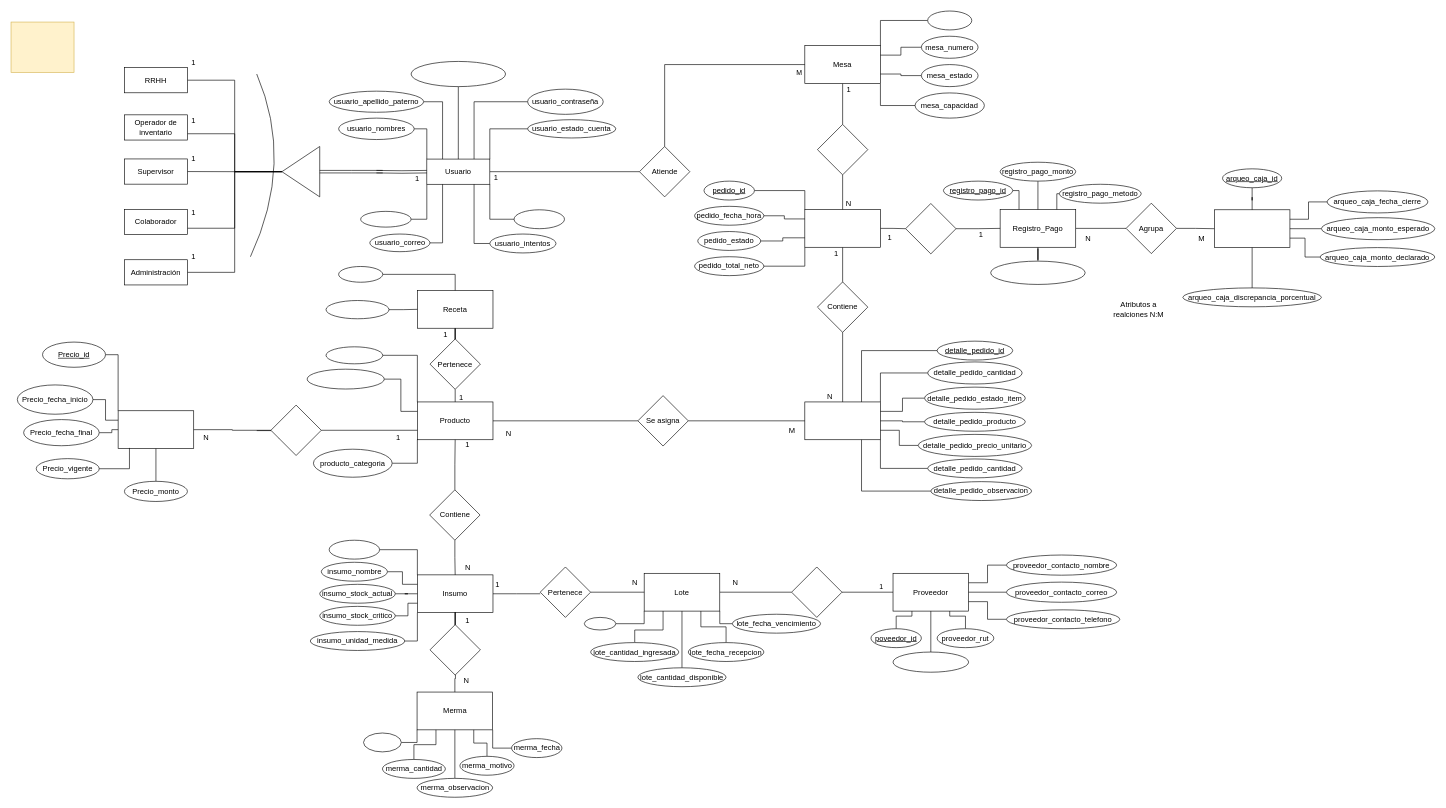
The diagram is 1446 pixels wide and 808 high, and some of its shapes have lost their labels. The box of each missing label's shape, as (x1, y1, x2, y2) in pixels:
Arqueo_Caja: (1214, 209, 1290, 248)
Asocia: (905, 203, 956, 254)
Atributos diferenciadores de las entidades: (10, 21, 74, 72)
Detalle_Pedido: (804, 401, 880, 440)
insumo_id: (329, 540, 380, 559)
lote_id: (584, 617, 616, 630)
merma_id: (363, 732, 401, 752)
mesa_id: (927, 10, 972, 30)
Pedido: (804, 209, 880, 247)
precios: (117, 410, 194, 449)
producto_id: (325, 346, 383, 364)
producto_nombre: (306, 369, 384, 389)
proveedor_nombre: (892, 651, 969, 672)
Puede tener: (817, 124, 868, 175)
receta_cantidad: (325, 300, 389, 319)
receta_id: (338, 266, 383, 282)
Registra: (429, 624, 480, 675)
registro_pago_estado_dte: (990, 261, 1085, 284)
roles: (281, 146, 320, 197)
Surte: (791, 566, 842, 617)
tiene: (270, 404, 321, 455)
usuario_apellido_materno: (410, 61, 506, 87)
usuario_id: (513, 209, 564, 229)
usuario_rut: (360, 211, 411, 227)
